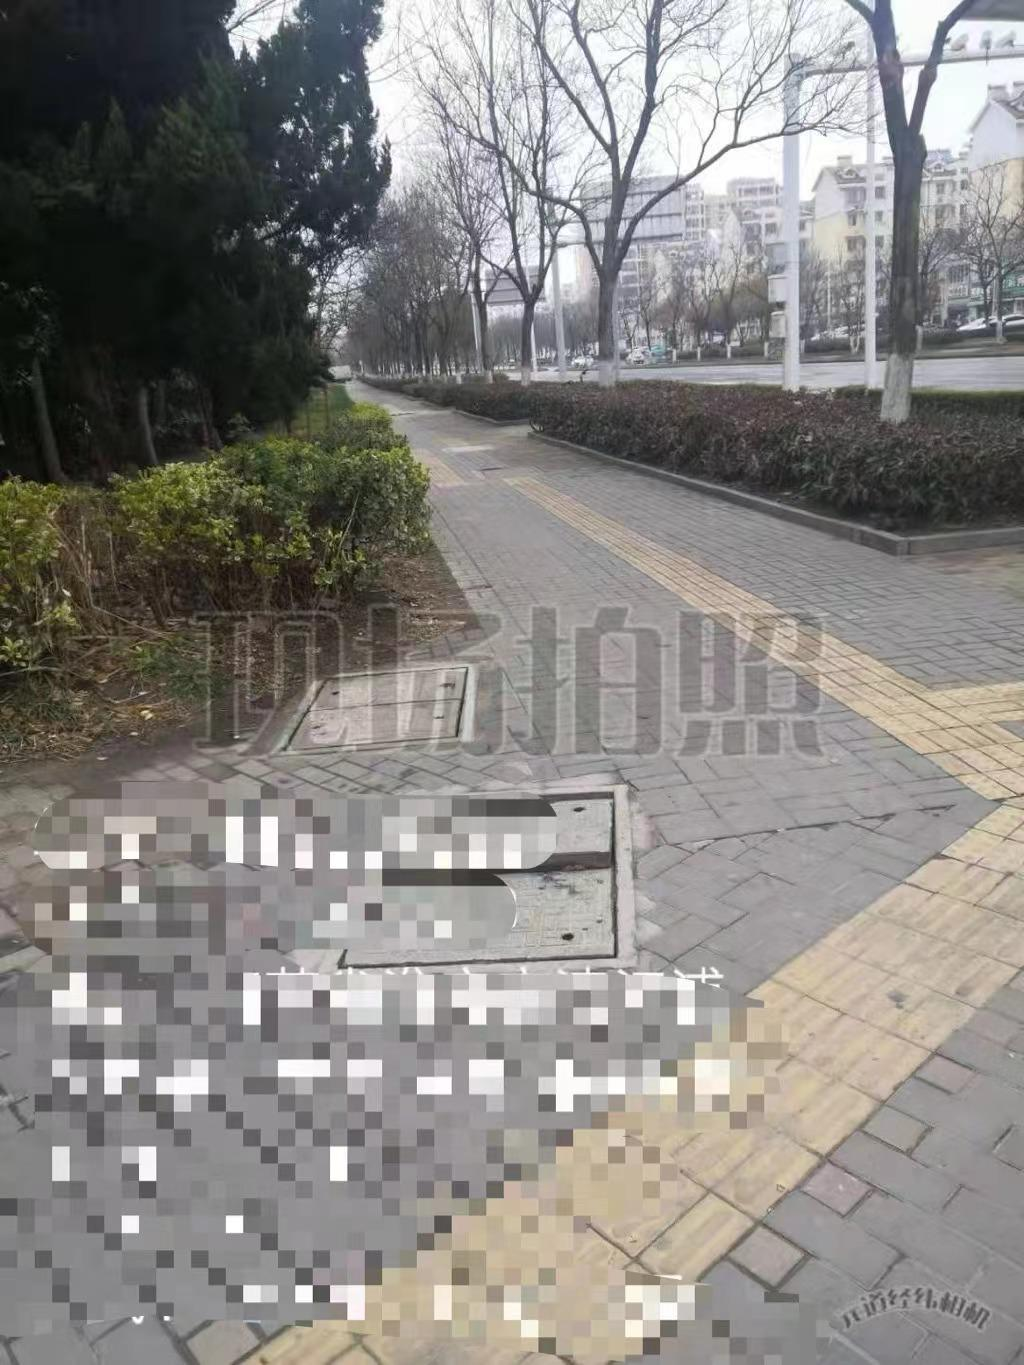wellcover: (353, 719, 634, 995)
